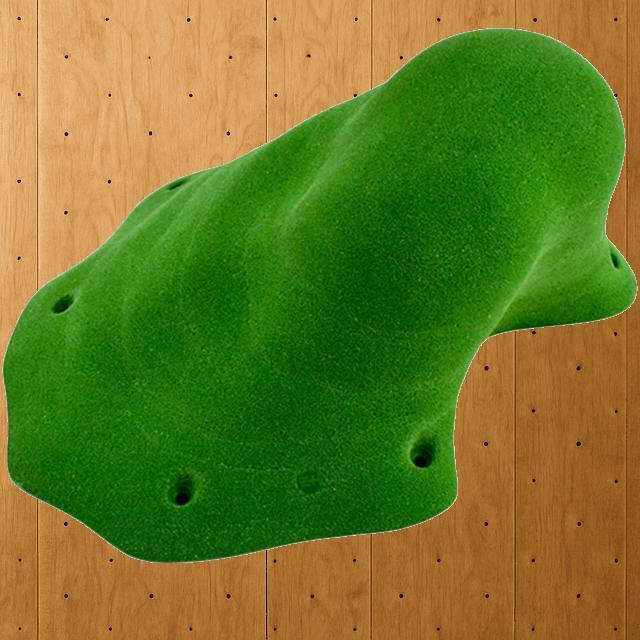Jug: (2, 25, 638, 562)
